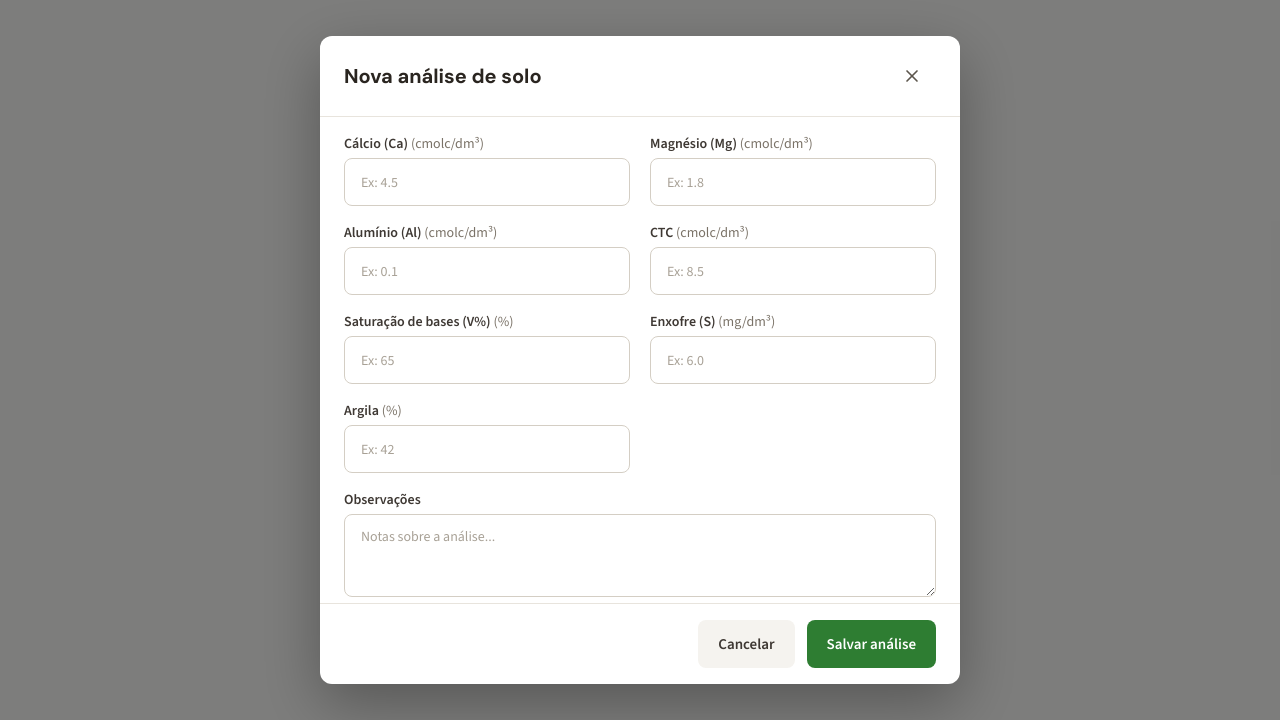
Test case: AddSoilAnalysisModal › shows validation error for V% out of range
(page scrolled)
Type "150" into the number field labelled "Saturação de bases (V%) (%)" at (487, 360), box [344, 336, 630, 384]
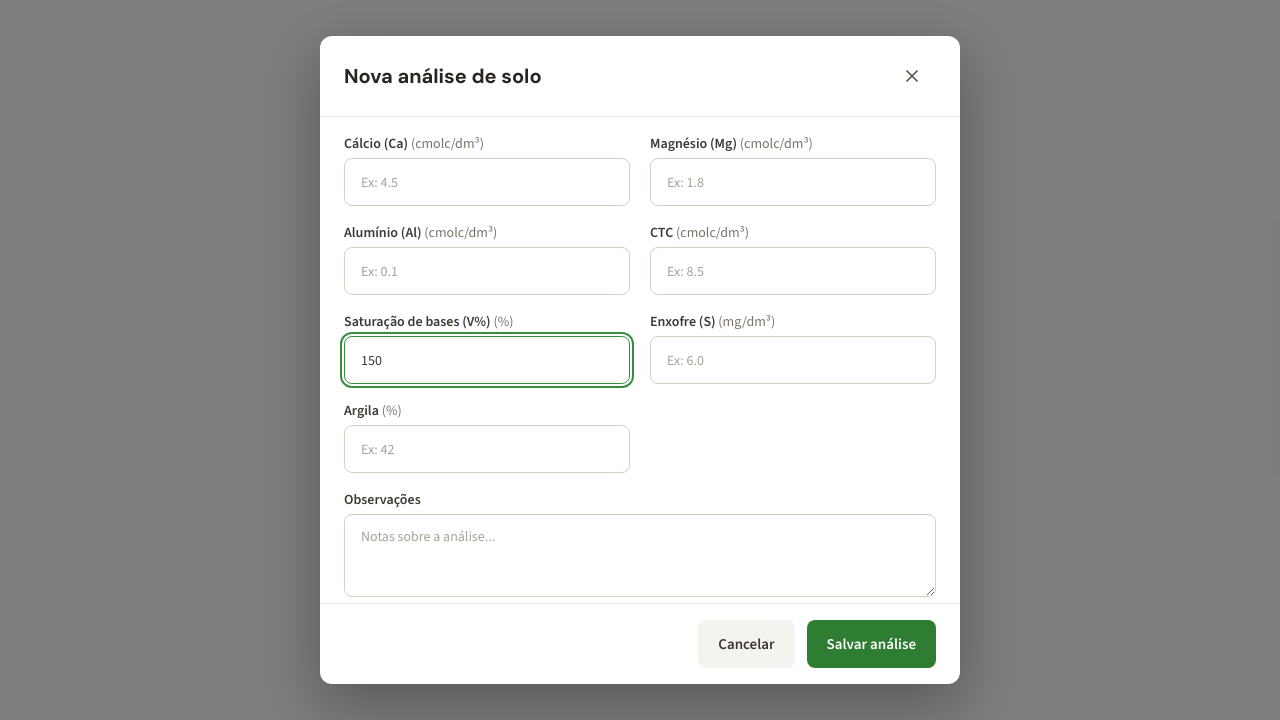
Press Tab
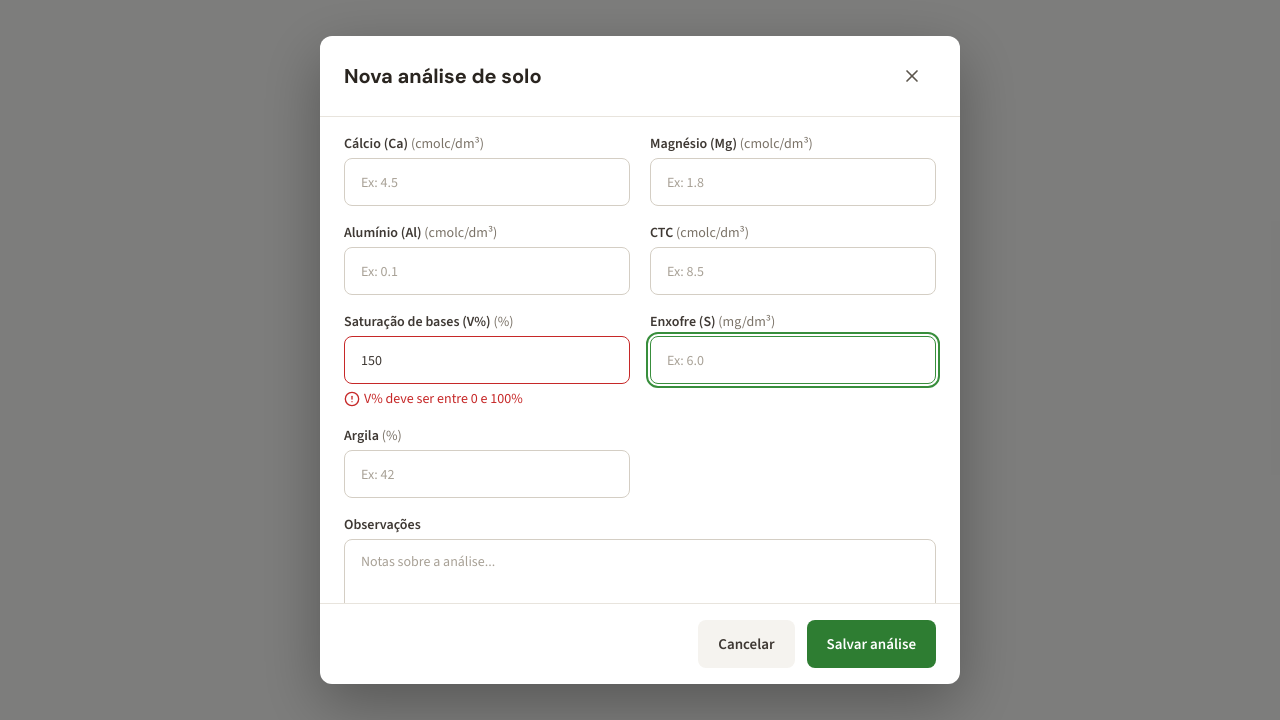
Check: the text "V% deve ser entre 0 e 100%" is shown, box [344, 389, 523, 408]
